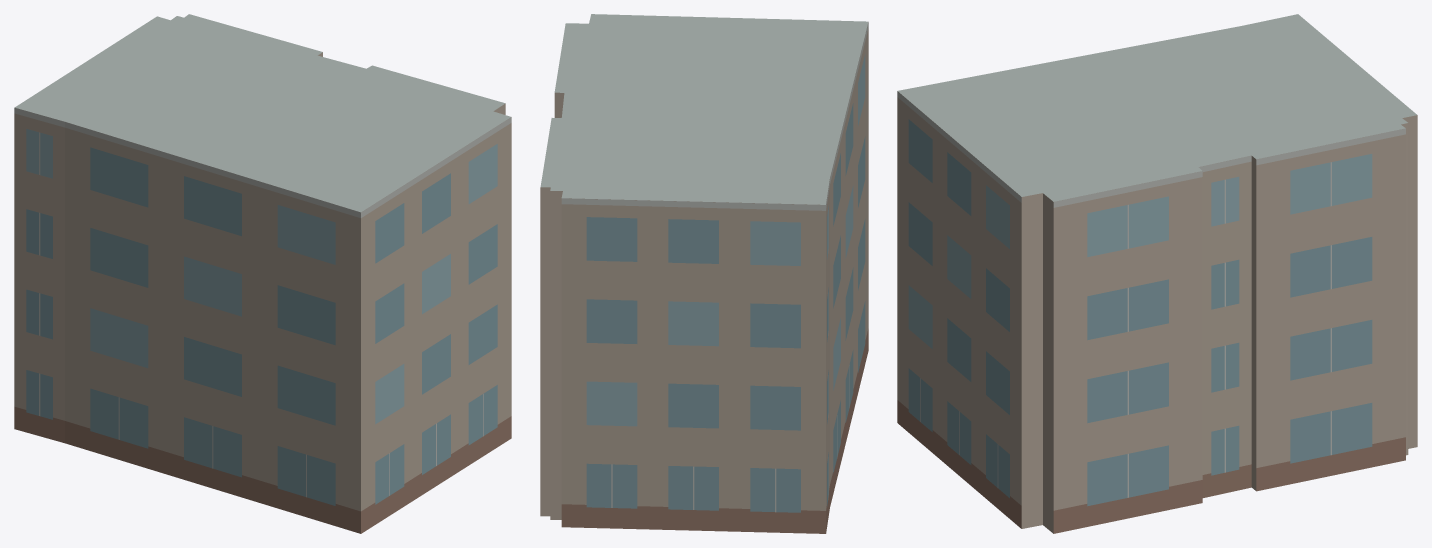
File: survey-upis-32739091.glb
3 views of the same model, side by side, from view 1: azimuth 30°, elevation 25°; view 2: azimuth 150°, elevation 25°; view 3: azimuth 270°, elevation 25° (orthographic). The views are drawn at different scales.
Parts seen in each view (by area): view 1: survey-upis-32739091.tmp; view 2: survey-upis-32739091.tmp; view 3: survey-upis-32739091.tmp.
Boxes of the visible parts, x1,y1,x2,y2 form: survey-upis-32739091.tmp: (14, 14, 511, 533); survey-upis-32739091.tmp: (540, 14, 868, 533); survey-upis-32739091.tmp: (897, 14, 1417, 533).
Size of the model in its own units: 16.27 by 13.4 by 19.04.
